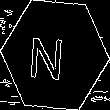N_N: (36, 28, 74, 82)
